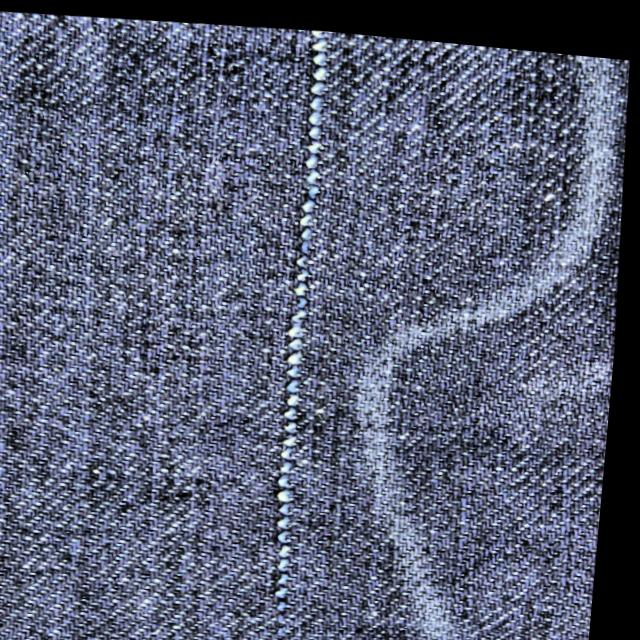Hole: (269, 129, 368, 215), (265, 285, 344, 378), (284, 22, 361, 109), (271, 421, 331, 459), (264, 544, 324, 582), (270, 496, 316, 524)
